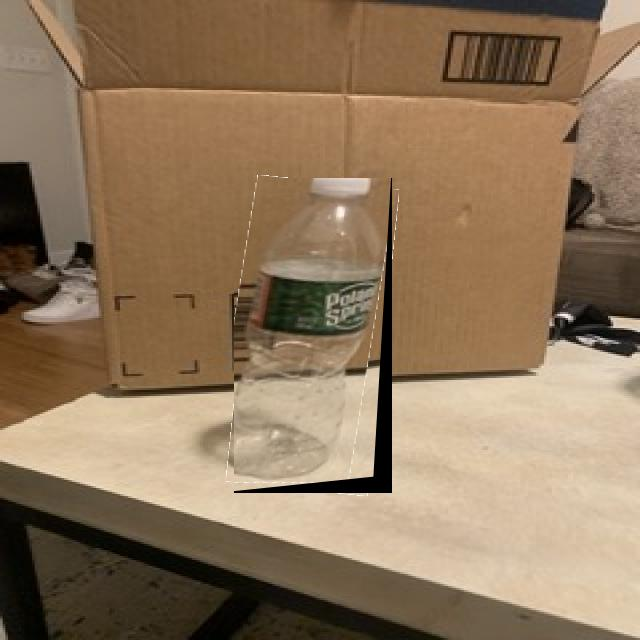water_bottle: (234, 178, 392, 493)
